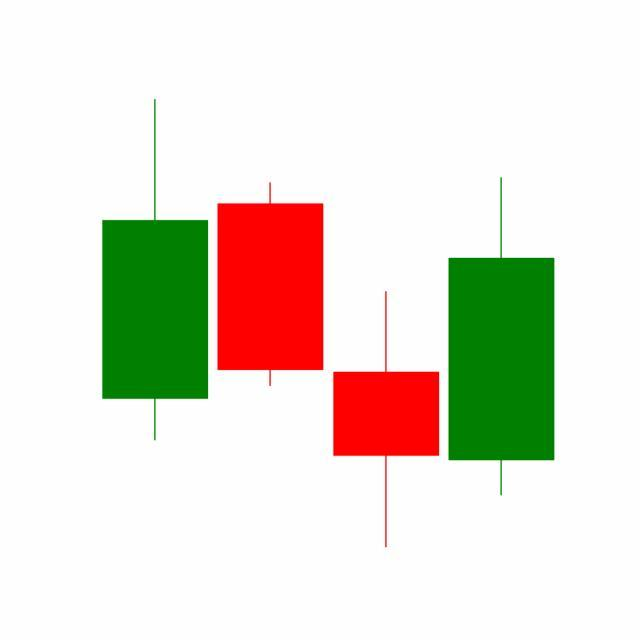Morning Star: (211, 173, 555, 548)
